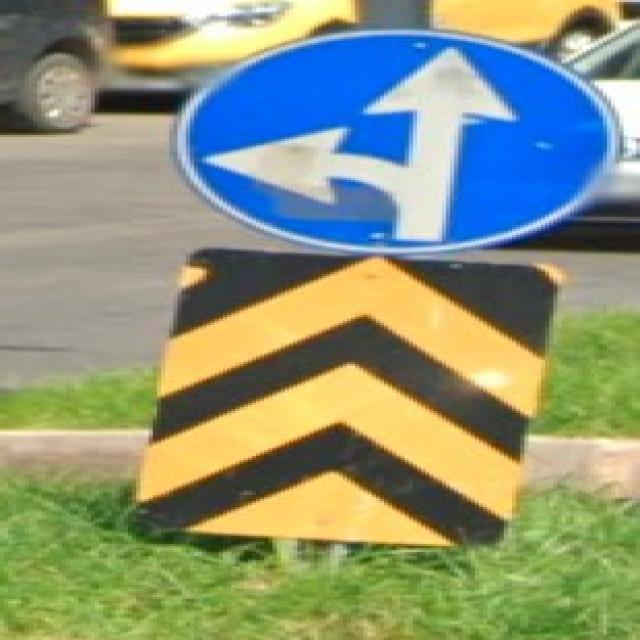Straight or Left: (175, 30, 621, 255)
